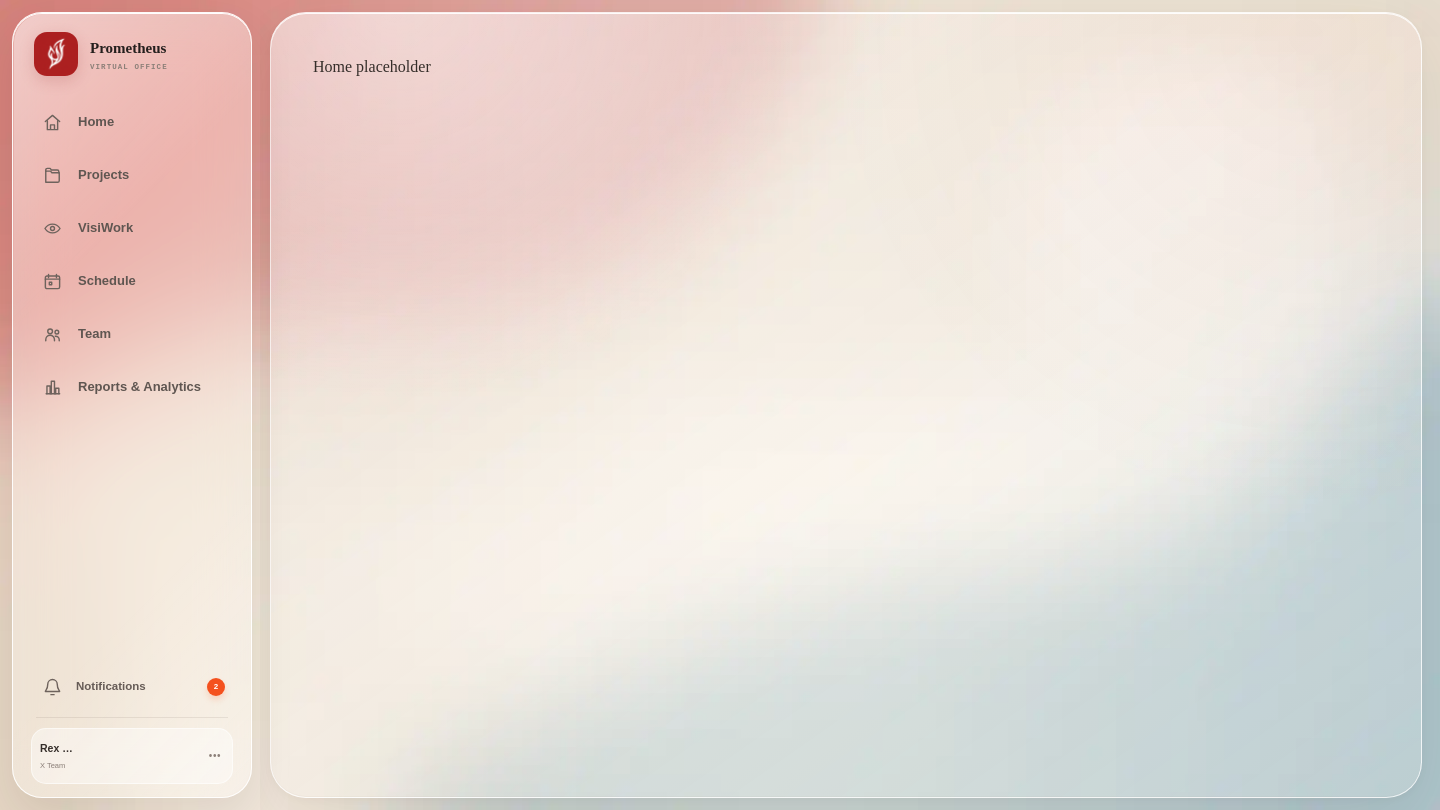
Scenario: AppShell notification utility badge › updates the badge after reading one notification in the inbox
The image size is (1440, 810).
Click the link with aria-label "Notifications, 2 unread" at (134, 687), box top-left (43, 678), bottom-right (225, 696)
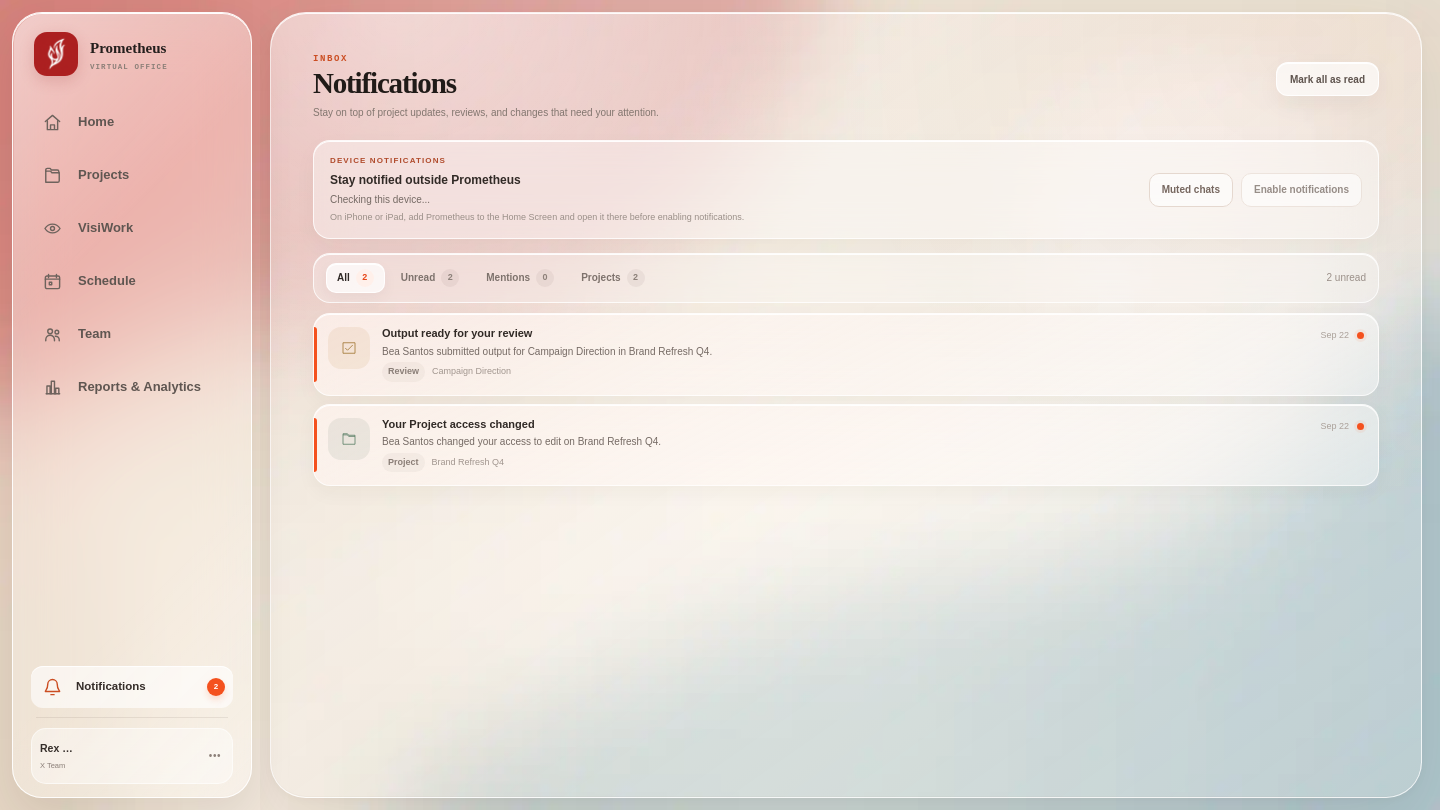
Click the button "Output ready for your review" at (349, 348), box top-left (313, 313), bottom-right (1379, 396)
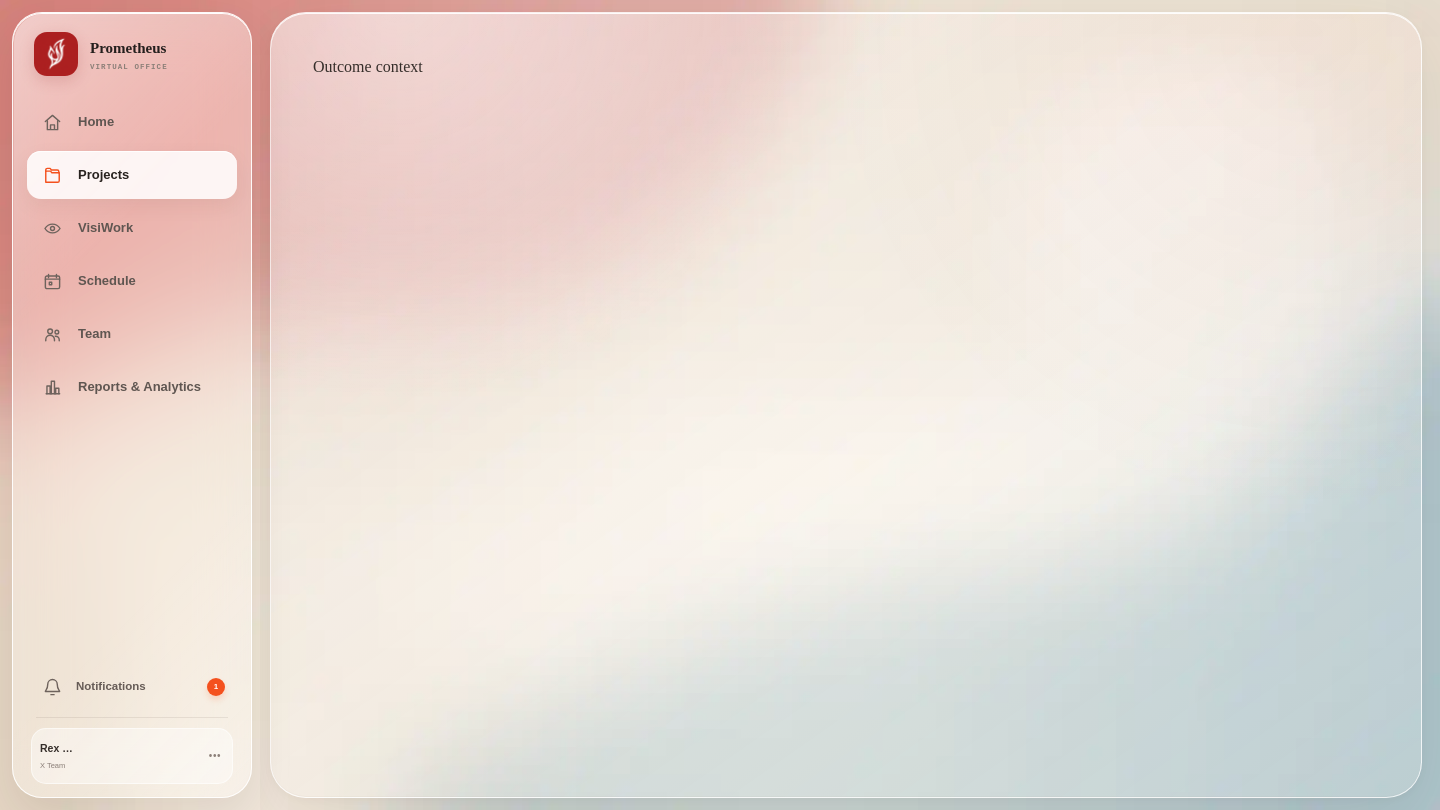
expect the heading "Outcome context" is shown: met, box top-left (313, 58), bottom-right (423, 75)
expect the link with aria-label "Notifications, 1 unread" is shown: met, box top-left (43, 678), bottom-right (225, 696)
